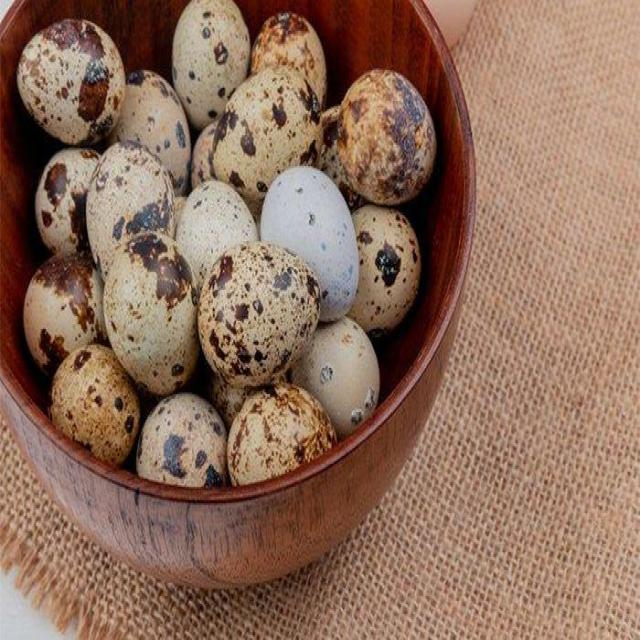Organik: (196, 71, 344, 206), (198, 229, 325, 383), (336, 44, 443, 215), (257, 154, 366, 308), (111, 218, 198, 400), (42, 316, 144, 464), (10, 22, 132, 143), (162, 160, 268, 282), (137, 362, 232, 498), (348, 192, 428, 346), (164, 0, 274, 111), (220, 381, 338, 484), (91, 144, 186, 270), (291, 309, 384, 427), (112, 65, 197, 184), (24, 259, 122, 355), (250, 3, 316, 114), (33, 153, 104, 248)
